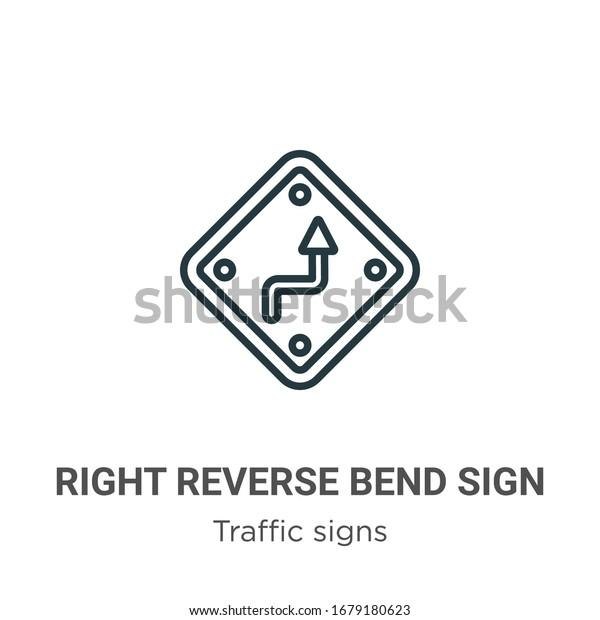Right Reverse Bend: (163, 137, 436, 395)
